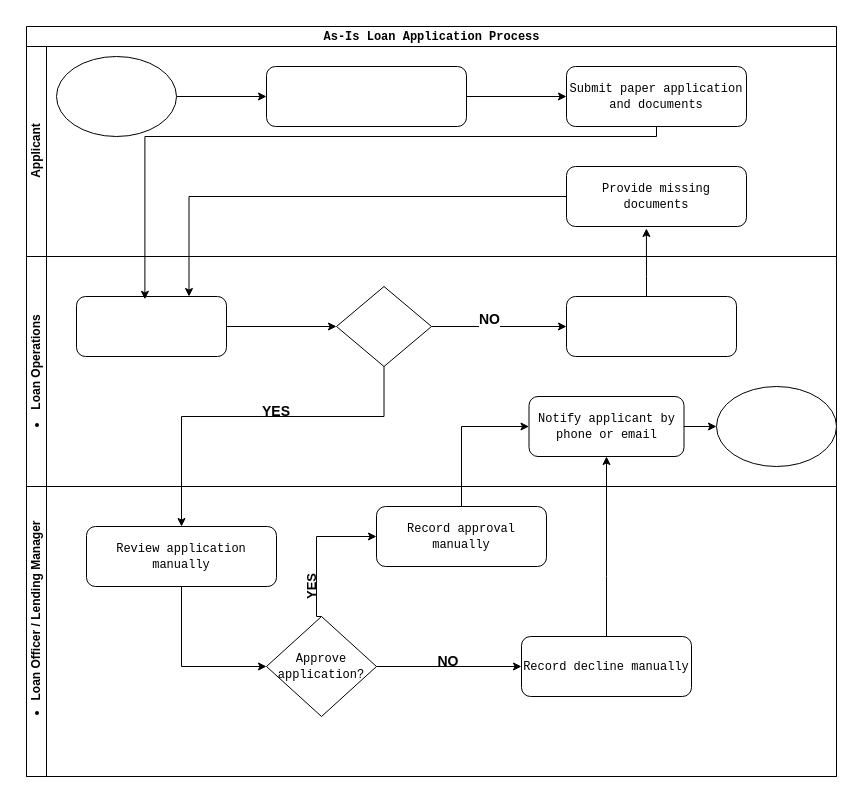
This 854x794 diagram has some shape labels left out. Each missing label, with the centre of its shape:
"Contact applicant for missing documents" belongs at [651,326].
"Documents complete?" belongs at [384,326].
"END" belongs at [776,426].
"Receive and register application" belongs at [151,326].
"Start" belongs at [116,96].
"Visit branch or contact bank" belongs at [366,96].
